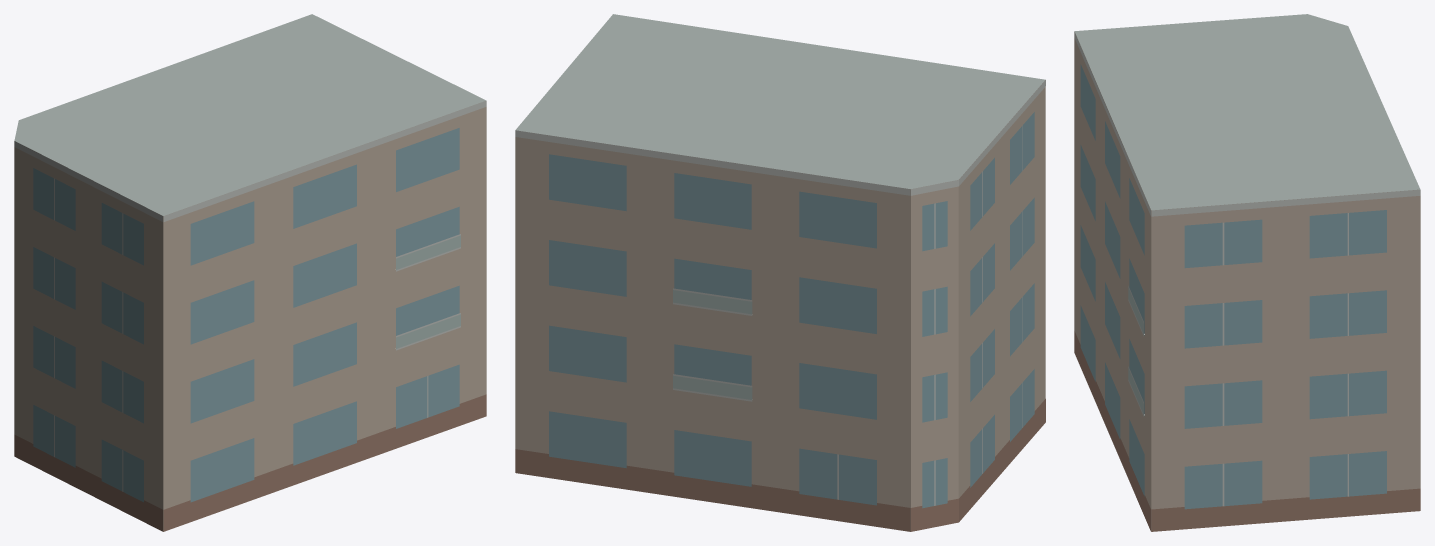
File: survey-upis-33001350.glb
3 renders of one model, left to right at view 1: azimuth 30°, elevation 25°; view 2: azimuth 150°, elevation 25°; view 3: azimuth 270°, elevation 25°, orthographic. The views are drawn at different scales.
Visible parts, largest first — view 1: survey-upis-33001350.tmp; view 2: survey-upis-33001350.tmp; view 3: survey-upis-33001350.tmp.
Part boxes in pixels (box(x1,y1,x2,y2)): survey-upis-33001350.tmp: box(14, 14, 486, 531); survey-upis-33001350.tmp: box(515, 14, 1045, 531); survey-upis-33001350.tmp: box(1074, 14, 1420, 531).
Bounding box in the file's own units: 16.39 × 12.5 × 12.21.
